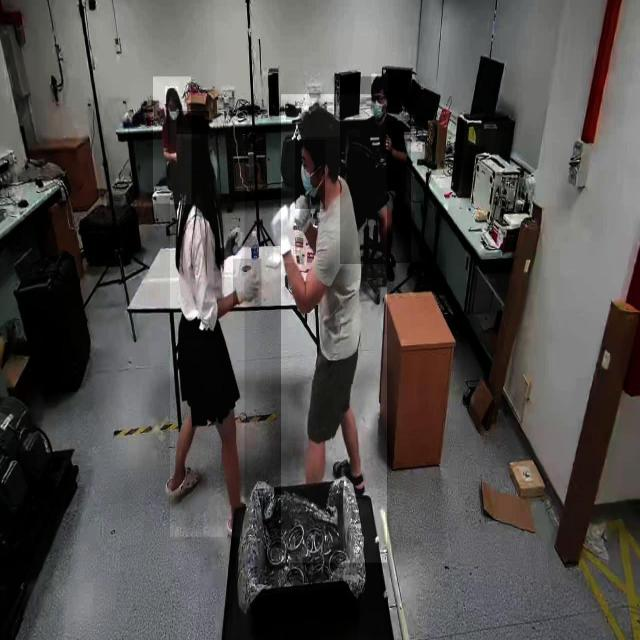face_mask: (295, 139, 325, 209), (371, 94, 385, 122), (166, 105, 180, 124)
hand_glove: (274, 204, 300, 263), (233, 258, 262, 306)
hand_noglove: (382, 132, 393, 154)
head_nohelmet: (296, 106, 340, 138), (177, 111, 210, 135), (372, 74, 388, 92), (165, 86, 179, 100)
person: (281, 94, 387, 564), (170, 112, 245, 538), (340, 76, 412, 264), (153, 76, 191, 205)
